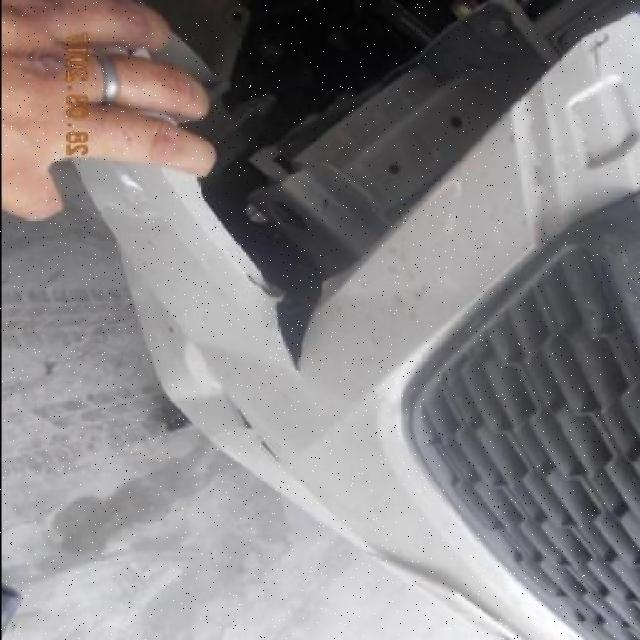damage: (246, 272, 348, 371)
